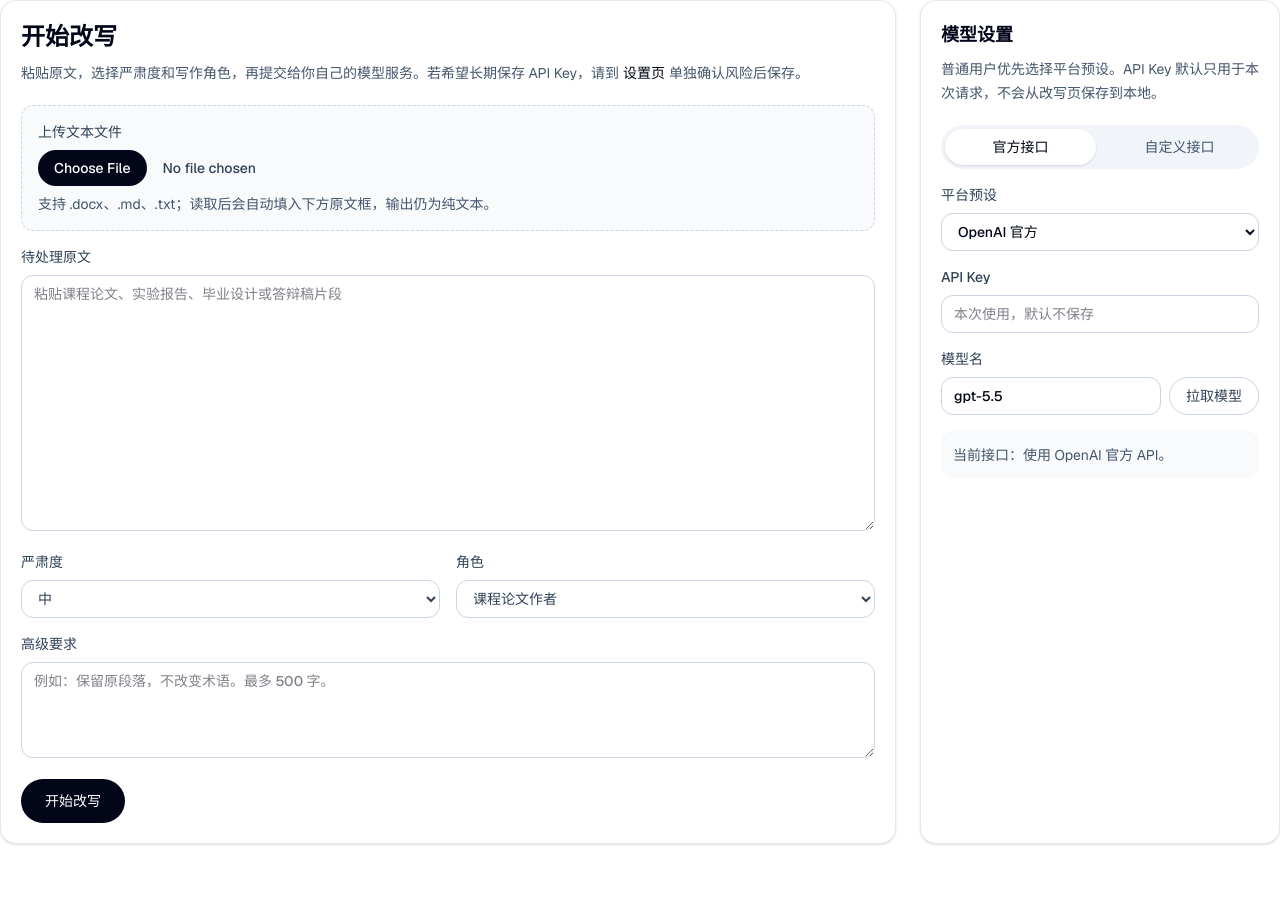
Test: RewriteForm › requires source text before submit
The image size is (1280, 900).
Click the button "开始改写": (73,801) x1=21 y1=779 x2=125 y2=823
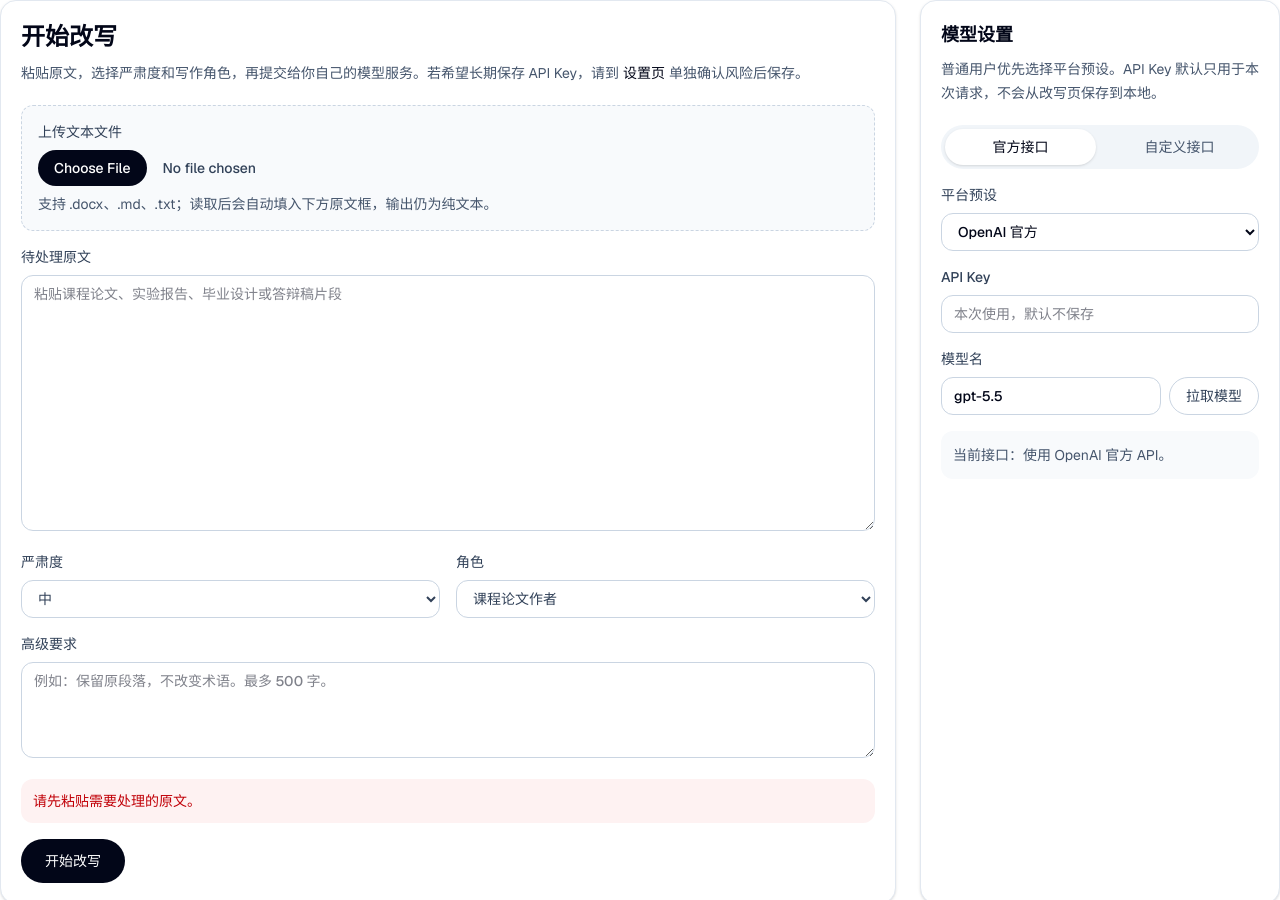
Result: the text "请先粘贴需要处理的原文。" is shown at x1=21 y1=779 x2=875 y2=823
